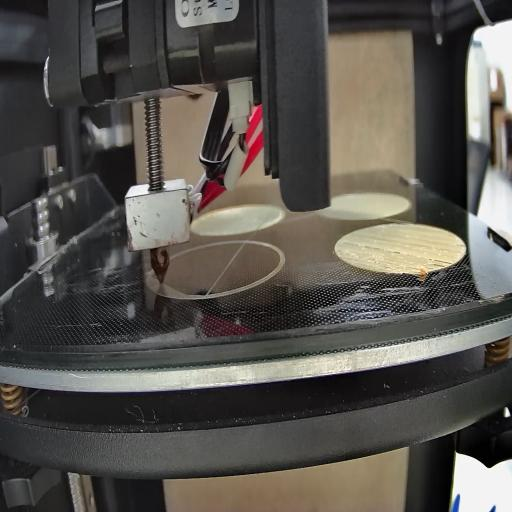under_extrusion: (343, 242, 403, 258), (424, 256, 451, 274), (405, 263, 421, 274), (456, 240, 467, 249)
